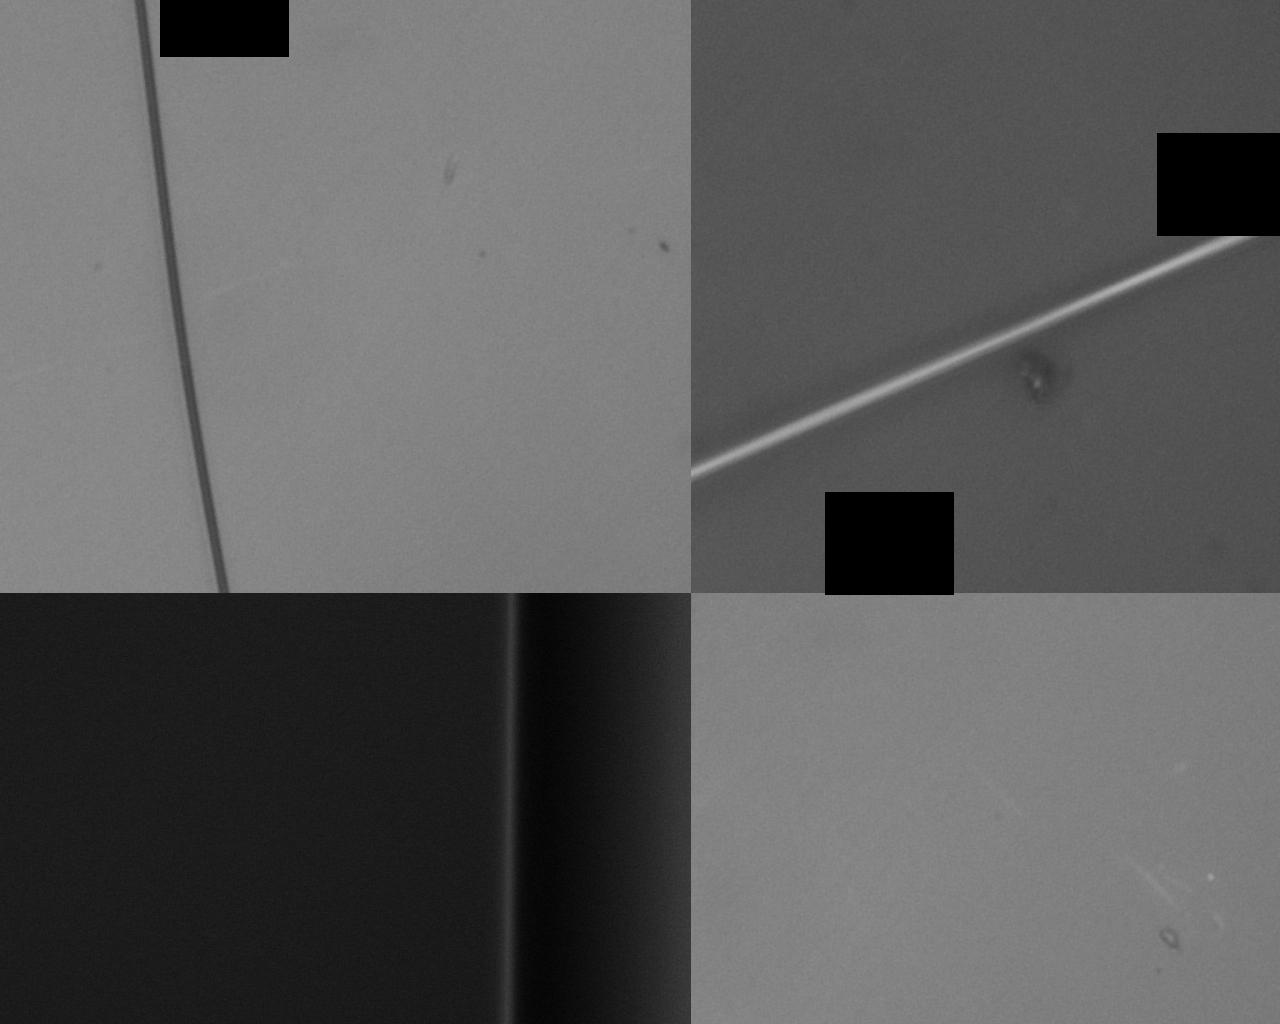fiber: (691, 206, 1280, 481), (503, 594, 691, 1024), (131, 0, 232, 594)
